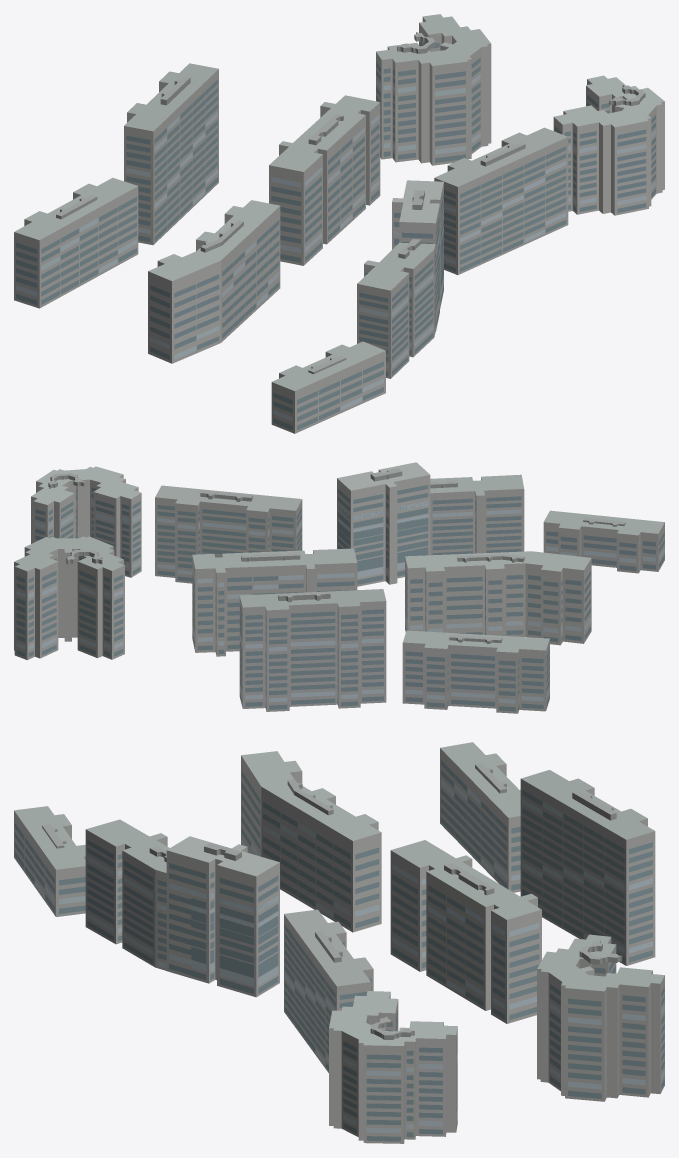
Rendered from apt-a13410002.glb.
3 views of the same model, one above another, from view 1: azimuth 30°, elevation 25°; view 2: azimuth 150°, elevation 25°; view 3: azimuth 270°, elevation 25° (orthographic). The views are drawn at different scales.
Parts seen in each view (by area): view 1: apt-a13410002; view 2: apt-a13410002; view 3: apt-a13410002.
Boxes of the visible parts, x1=… form: apt-a13410002: x1=14, y1=14, x2=664, y2=433; apt-a13410002: x1=14, y1=462, x2=664, y2=713; apt-a13410002: x1=14, y1=742, x2=664, y2=1143.
Bounding box in the file's own units: 212 × 40 × 179.
